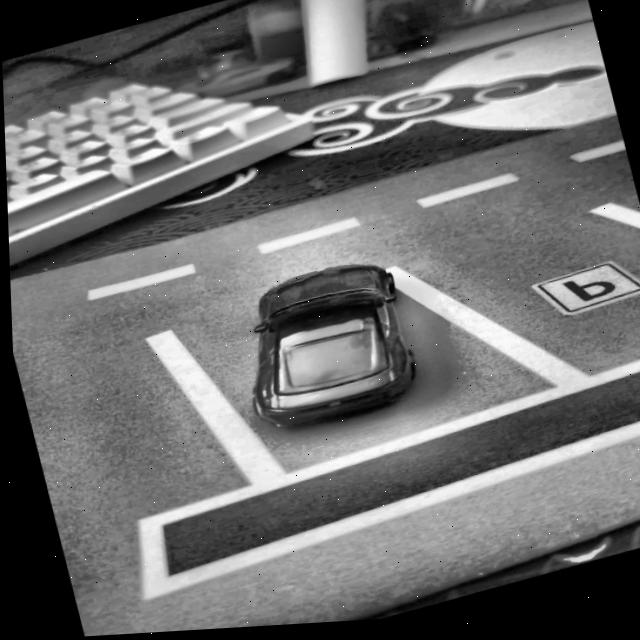car: (222, 252, 423, 442)
